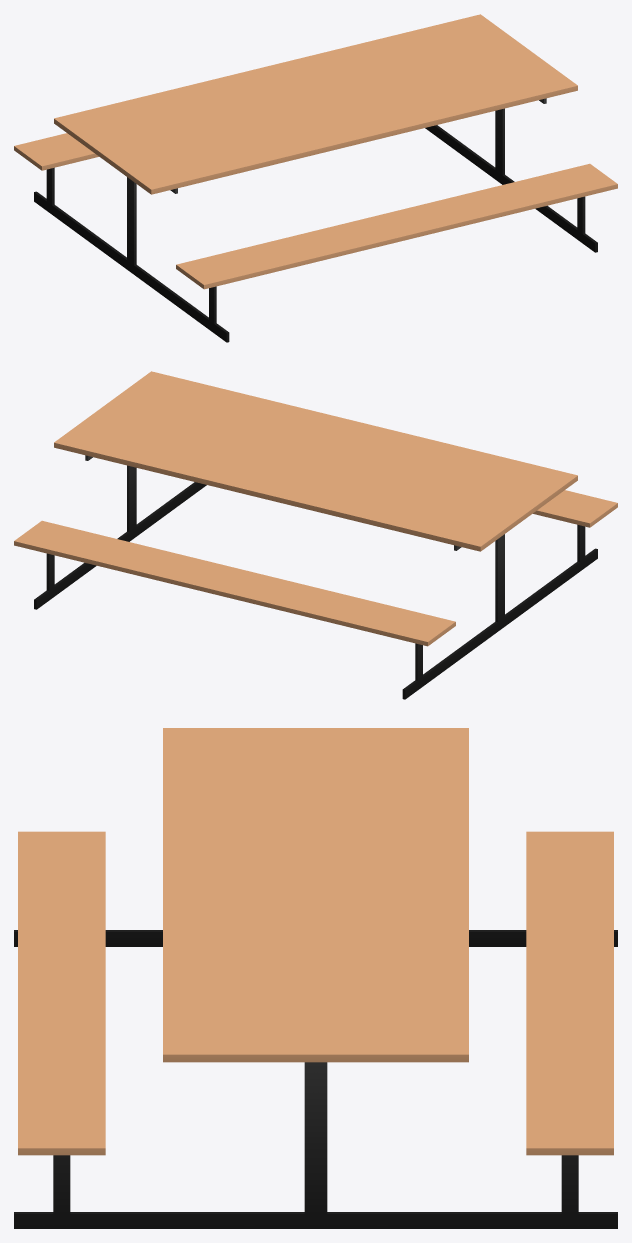
The model's file is BangkuKantin.fbx.
3 renders of one model, top to bottom at view 1: azimuth 30°, elevation 25°; view 2: azimuth 150°, elevation 25°; view 3: azimuth 270°, elevation 25°, orthographic. The views are drawn at different scales.
Parts seen in each view (by area): view 1: Bangku_LOD0; view 2: Bangku_LOD0; view 3: Bangku_LOD0.
Boxes of the visible parts, bbox=[...] form: Bangku_LOD0: bbox=[14, 14, 617, 342]; Bangku_LOD0: bbox=[14, 371, 617, 699]; Bangku_LOD0: bbox=[14, 728, 617, 1228].
Size of what is drawn, in the model's own units: 408 by 114 by 319.
